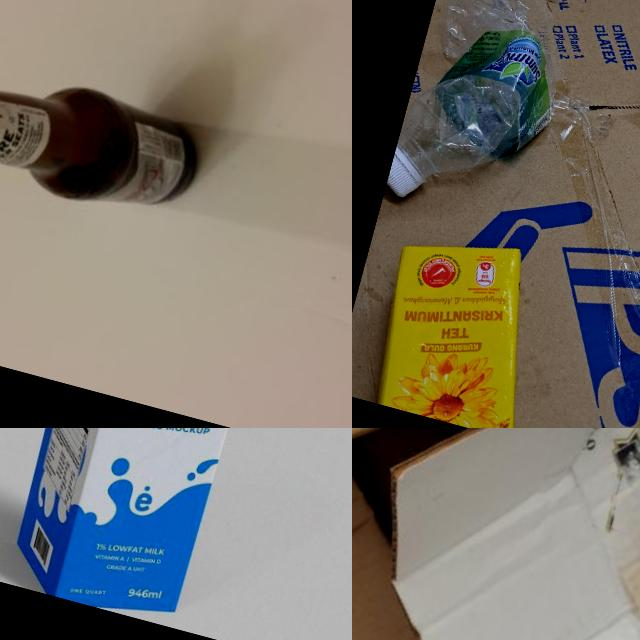caixinha: (0, 428, 277, 627), (359, 219, 569, 428)
garrafa de vidro: (0, 36, 211, 232)
garrafa plástica: (384, 0, 581, 229)
papelão: (352, 0, 640, 428), (352, 428, 640, 640)
tampa plástica: (382, 137, 432, 205)
